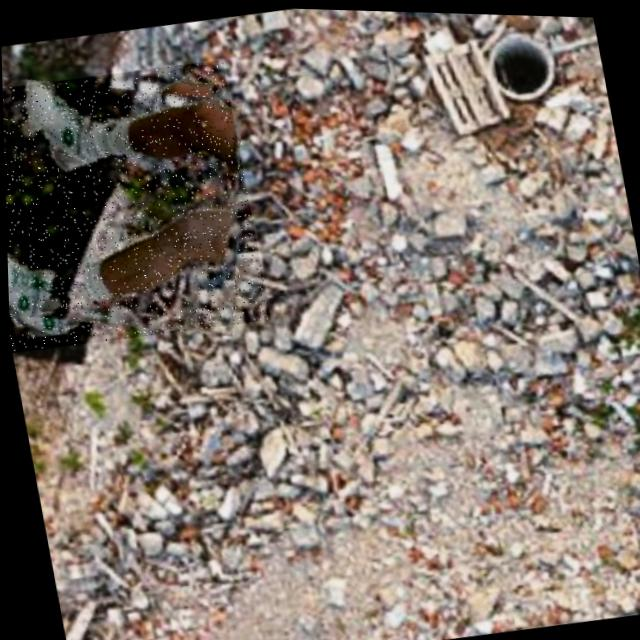Person in Rubble: (1, 53, 269, 359)
